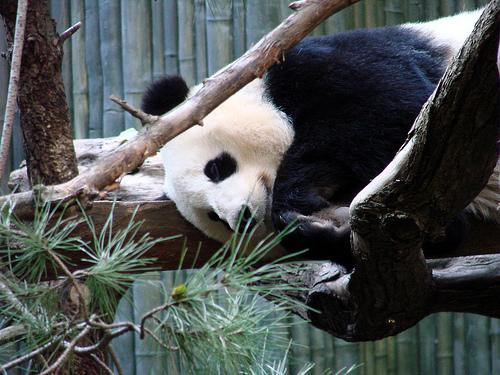panda: (160, 9, 483, 268), (438, 161, 499, 245)
